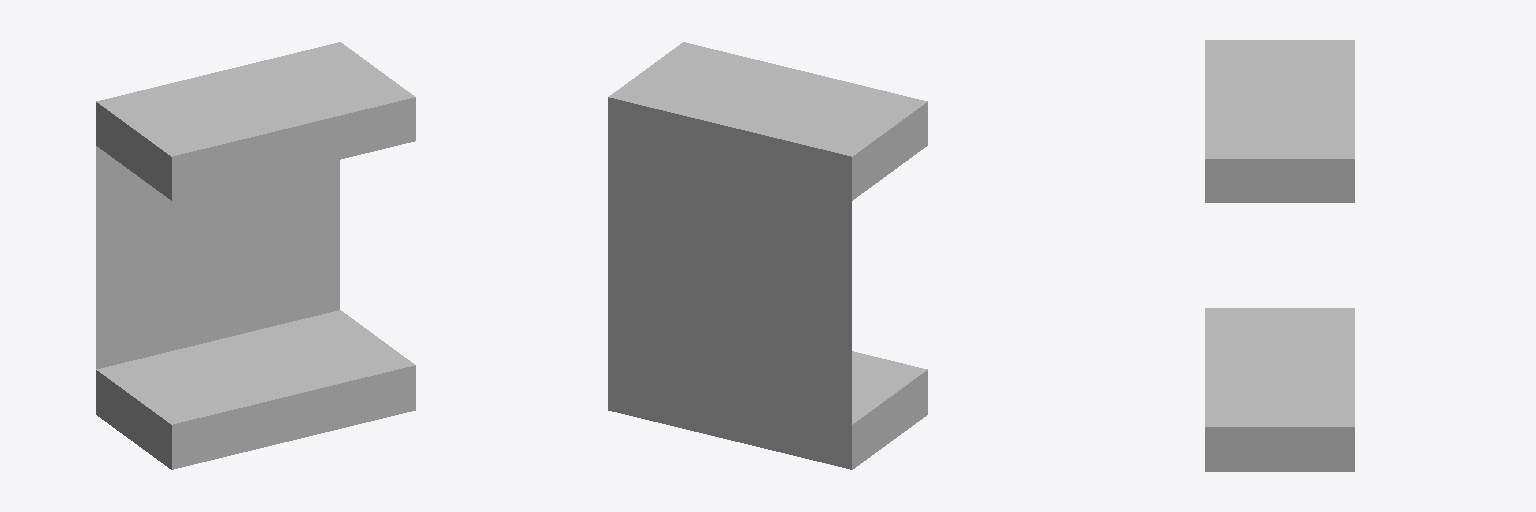
Rendered from doorOpen.obj.
3 renders of one model, left to right at view 1: azimuth 30°, elevation 25°; view 2: azimuth 150°, elevation 25°; view 3: azimuth 270°, elevation 25°, orthographic.
Visible parts, largest first — view 1: Object.1; view 2: Object.1; view 3: Object.1.
Part boxes in pixels (bbox=[...]): Object.1: bbox=[96, 42, 415, 469]; Object.1: bbox=[608, 42, 927, 469]; Object.1: bbox=[1205, 40, 1354, 471].
Size of the model in its own units: 129 by 158 by 68.91.